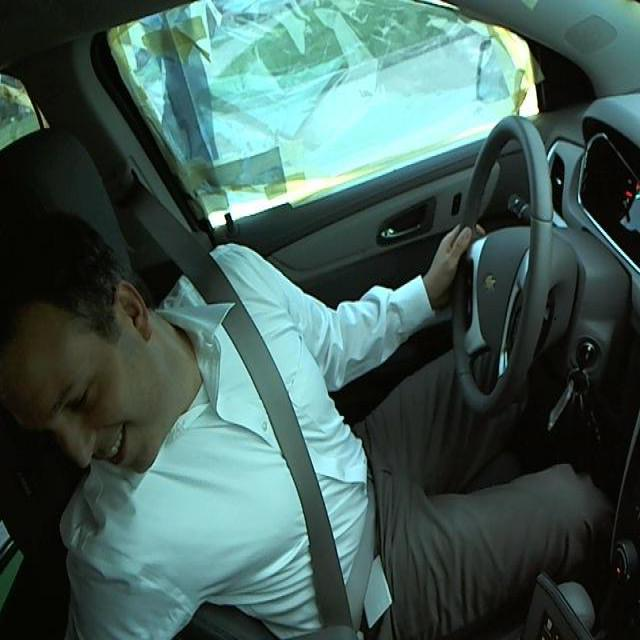seatbelt: (202, 294, 390, 622)
